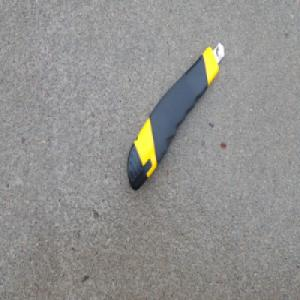Cutter: (125, 40, 223, 192)
